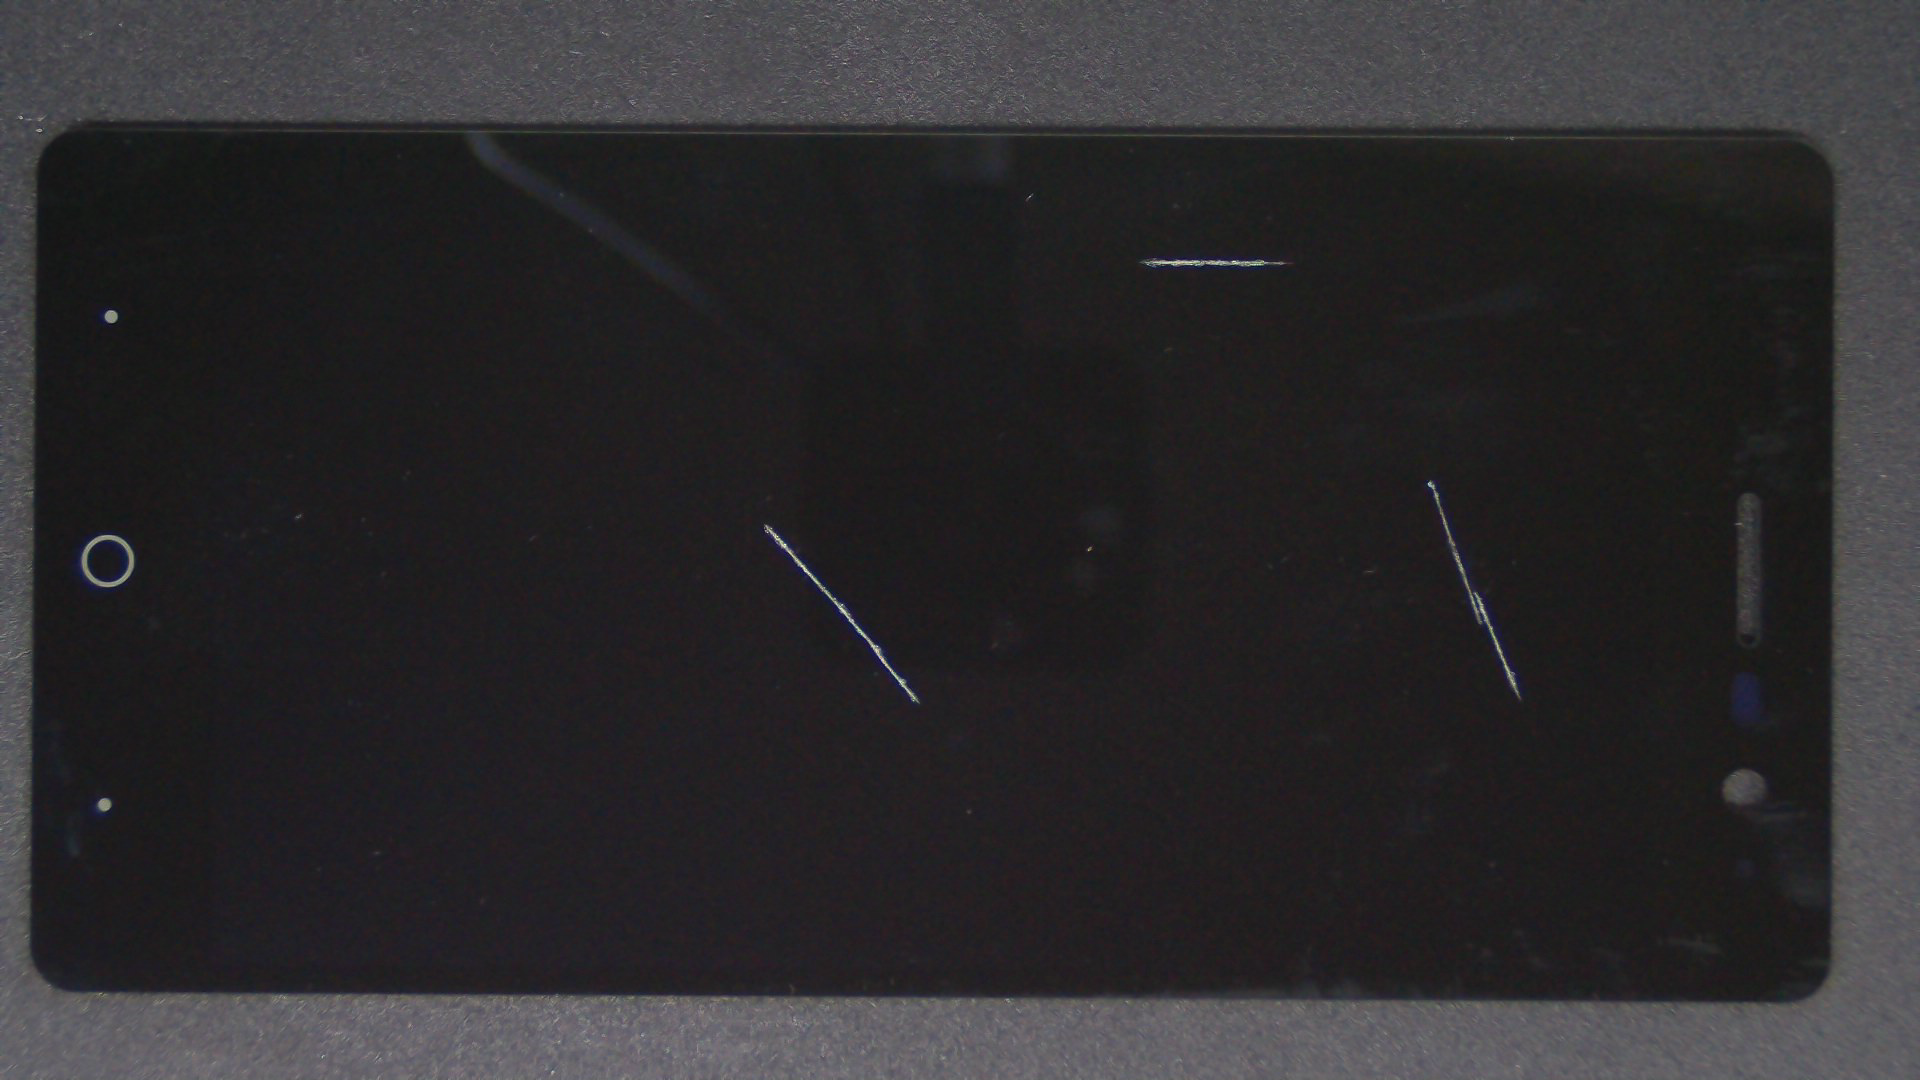defect: (762, 522, 920, 705), (1425, 479, 1520, 702), (1135, 257, 1292, 269)
